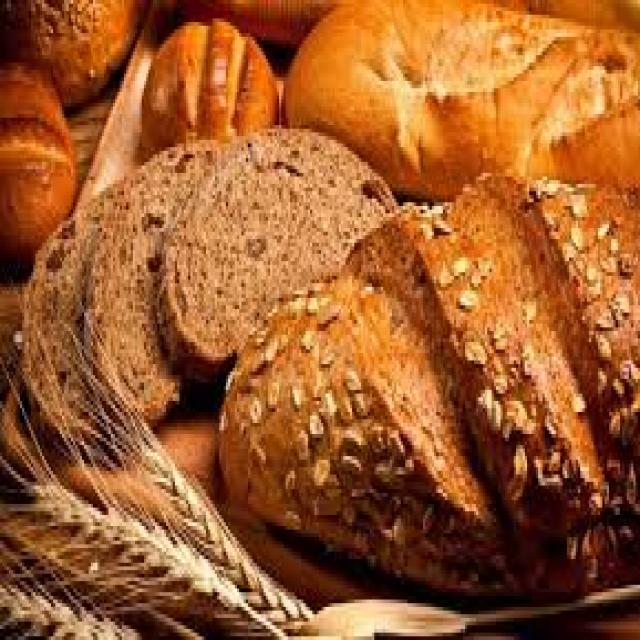organic waste: (215, 166, 638, 603), (0, 272, 314, 636), (277, 0, 638, 199), (153, 125, 396, 379), (80, 140, 234, 416), (20, 173, 142, 449), (135, 15, 279, 147), (0, 0, 135, 110), (0, 55, 73, 258), (162, 0, 334, 48)
